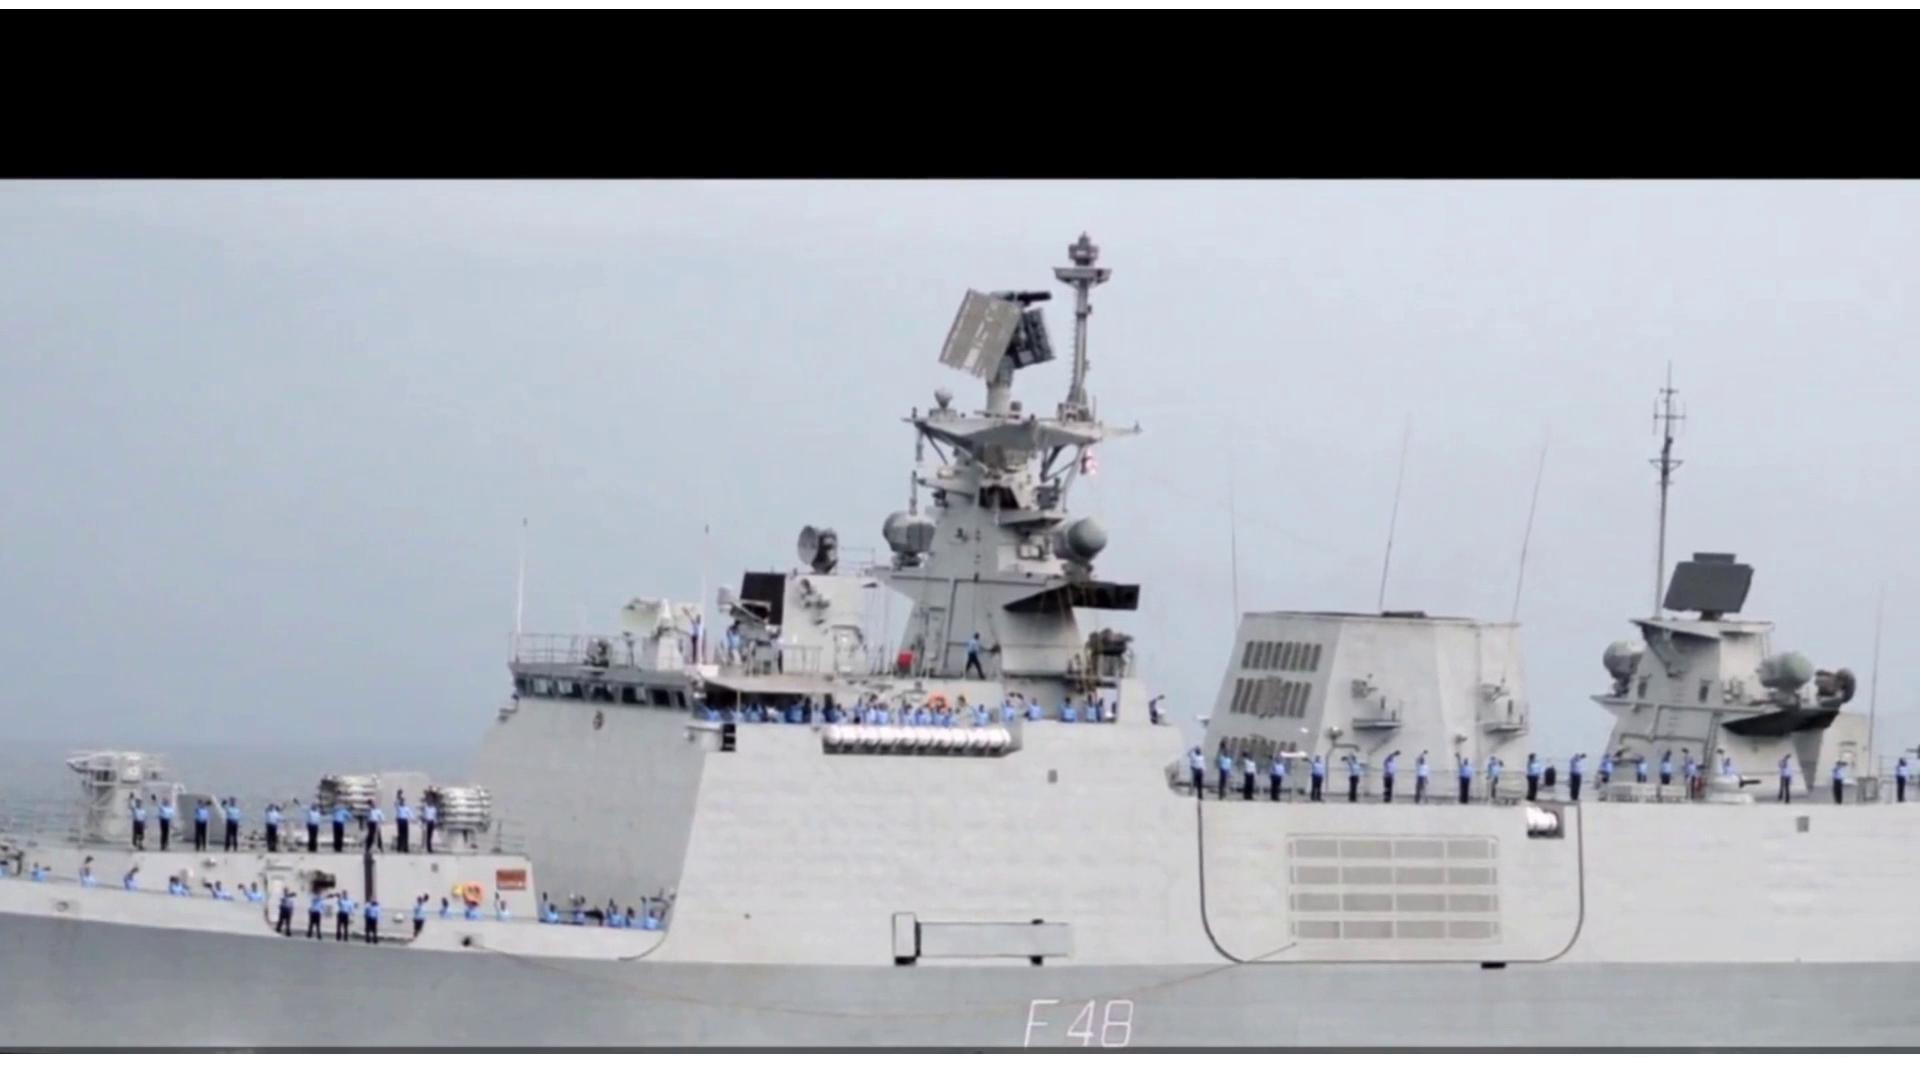OCR: (981, 991, 1139, 1053)
